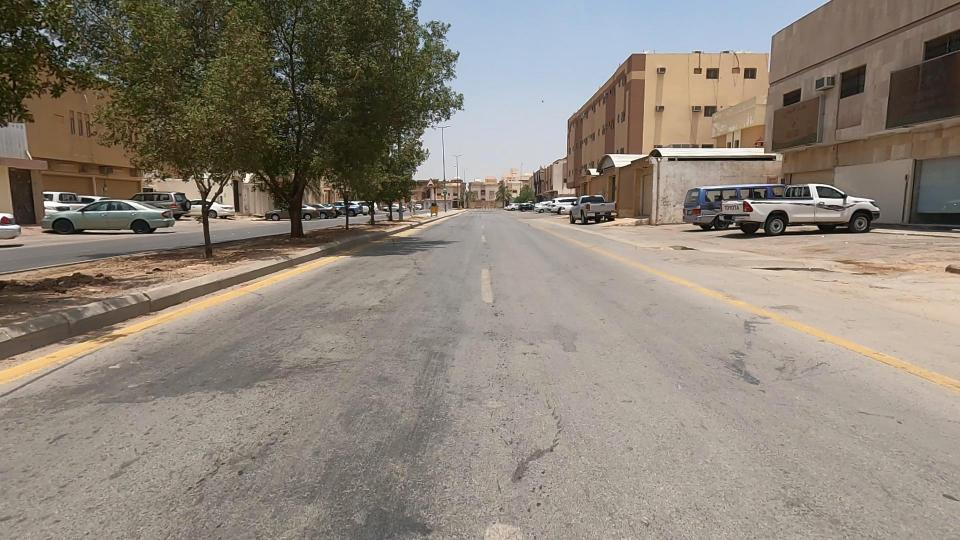CLUTTER_SIDEWALK: (0, 223, 270, 324)
